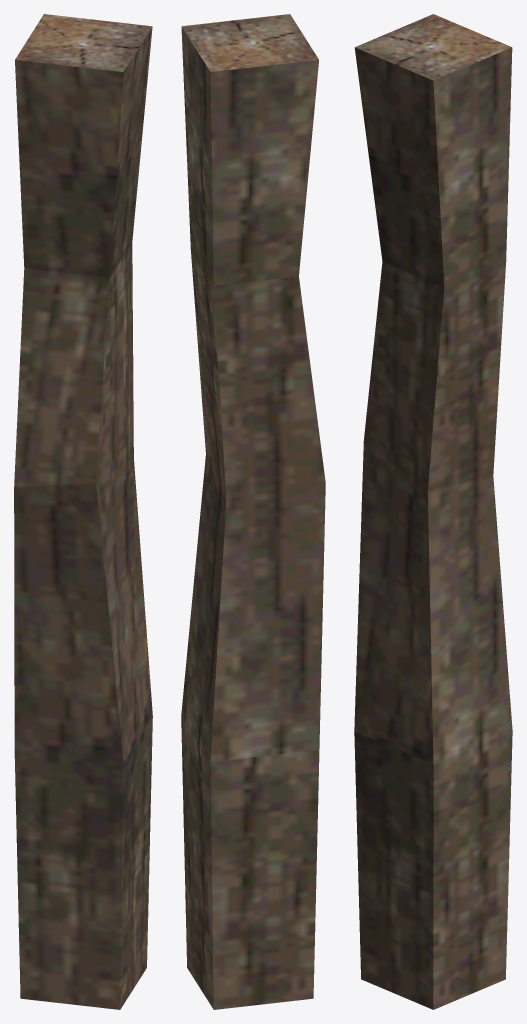
Rendered from Urban_WoodenFencePoleAlt_Model.fbx.
3 renders of one model, left to right at view 1: azimuth 30°, elevation 25°; view 2: azimuth 150°, elevation 25°; view 3: azimuth 270°, elevation 25°, orthographic.
Parts seen in each view (by area): view 1: Urban_WoodenFencePoleAlt_Mesh; view 2: Urban_WoodenFencePoleAlt_Mesh; view 3: Urban_WoodenFencePoleAlt_Mesh.
Part boxes in pixels (left/top/right/bottom): Urban_WoodenFencePoleAlt_Mesh: left=14, top=14, right=152, bottom=1009; Urban_WoodenFencePoleAlt_Mesh: left=181, top=14, right=325, bottom=1009; Urban_WoodenFencePoleAlt_Mesh: left=354, top=14, right=512, bottom=1009.
Bounding box in the file's own units: 0.1891 × 1.2 × 0.1845.
